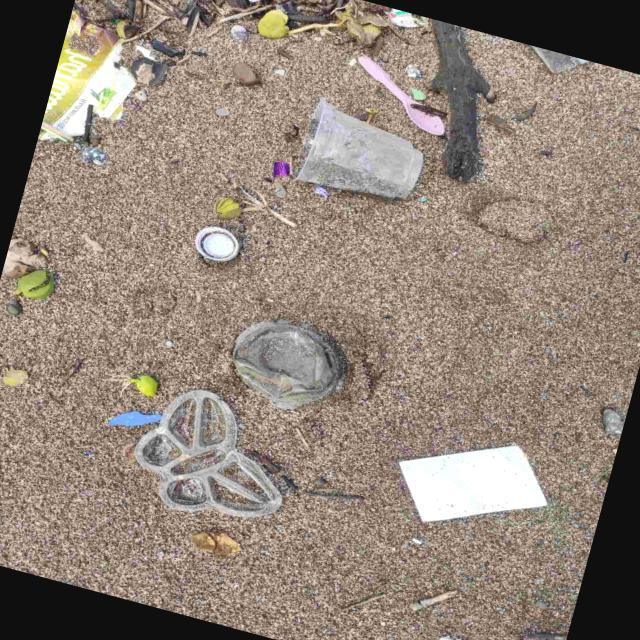giay: (40, 10, 135, 138), (400, 446, 547, 522)
hop_nhua: (295, 97, 423, 198)
nhua: (132, 390, 282, 518), (232, 320, 348, 410), (358, 55, 444, 135), (194, 226, 239, 261)
